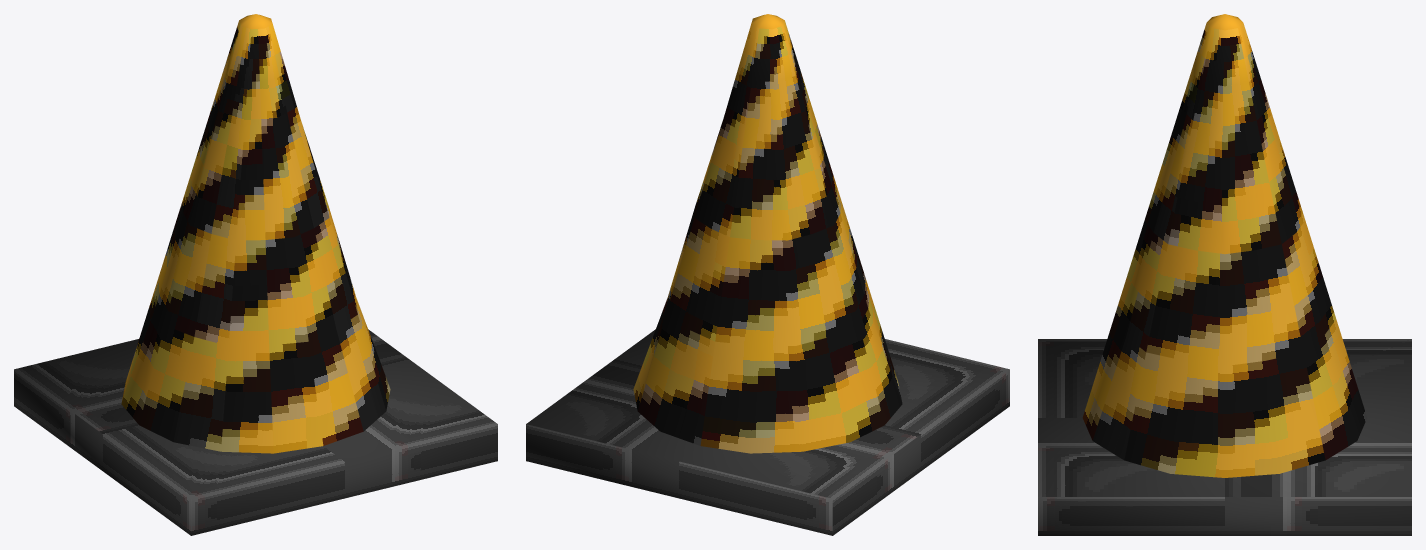
File: int_cst_stripesP.dae
The picture shows the model from 3 angles, left to right: view 1: azimuth 30°, elevation 25°; view 2: azimuth 150°, elevation 25°; view 3: azimuth 270°, elevation 25°; orthographic projection. The views are drawn at different scales.
Parts seen in each view (by area): view 1: int_cst_stripesP; view 2: int_cst_stripesP; view 3: int_cst_stripesP.
Part boxes in pixels (x1,y1,x2,y2): int_cst_stripesP: (14, 14, 497, 535); int_cst_stripesP: (526, 14, 1009, 535); int_cst_stripesP: (1038, 14, 1411, 535).
Bounding box in the file's own units: 20.8 × 27.2 × 20.8.
Materials: 2 (2 with a texture image).
